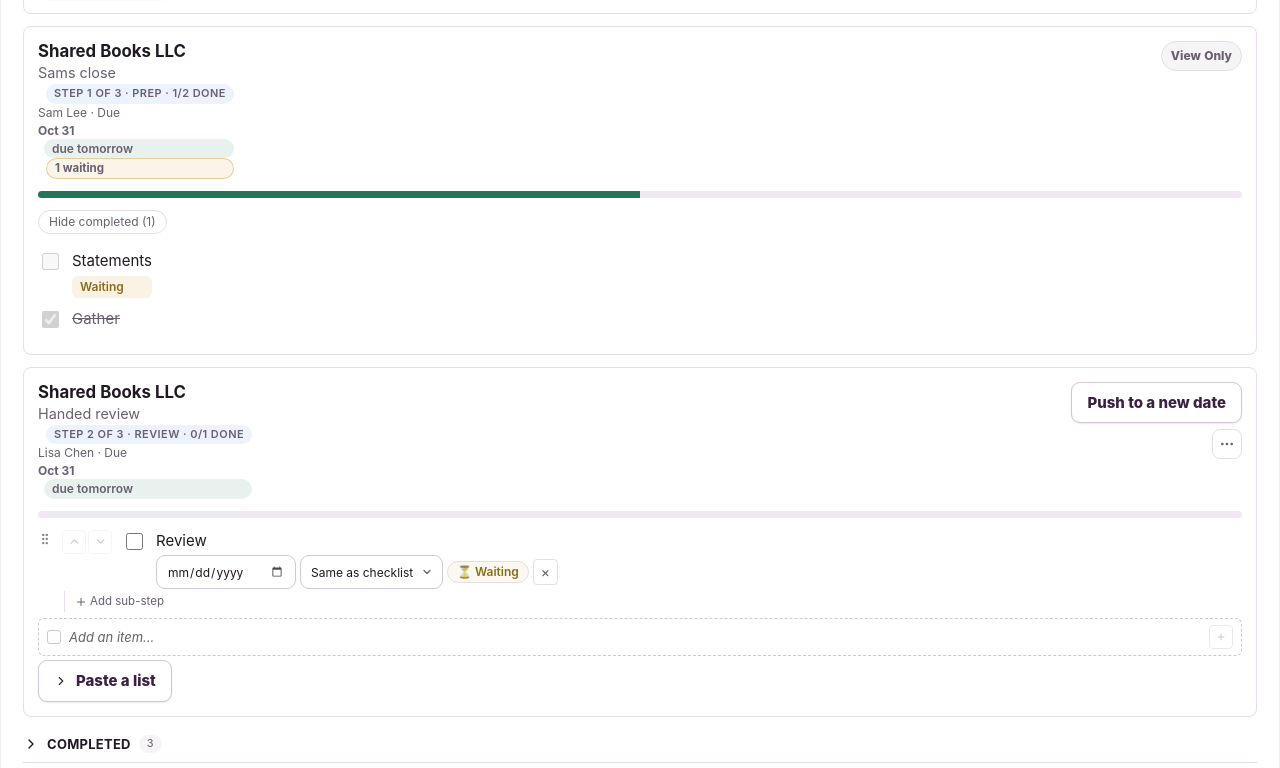
Open next step now › is offered on a finished step whose next step never opened, saying so
The image size is (1280, 768).
(page scrolled)
Click the button "Completed 3" at (89, 744), box [23, 727, 1257, 763]
(page scrolled)
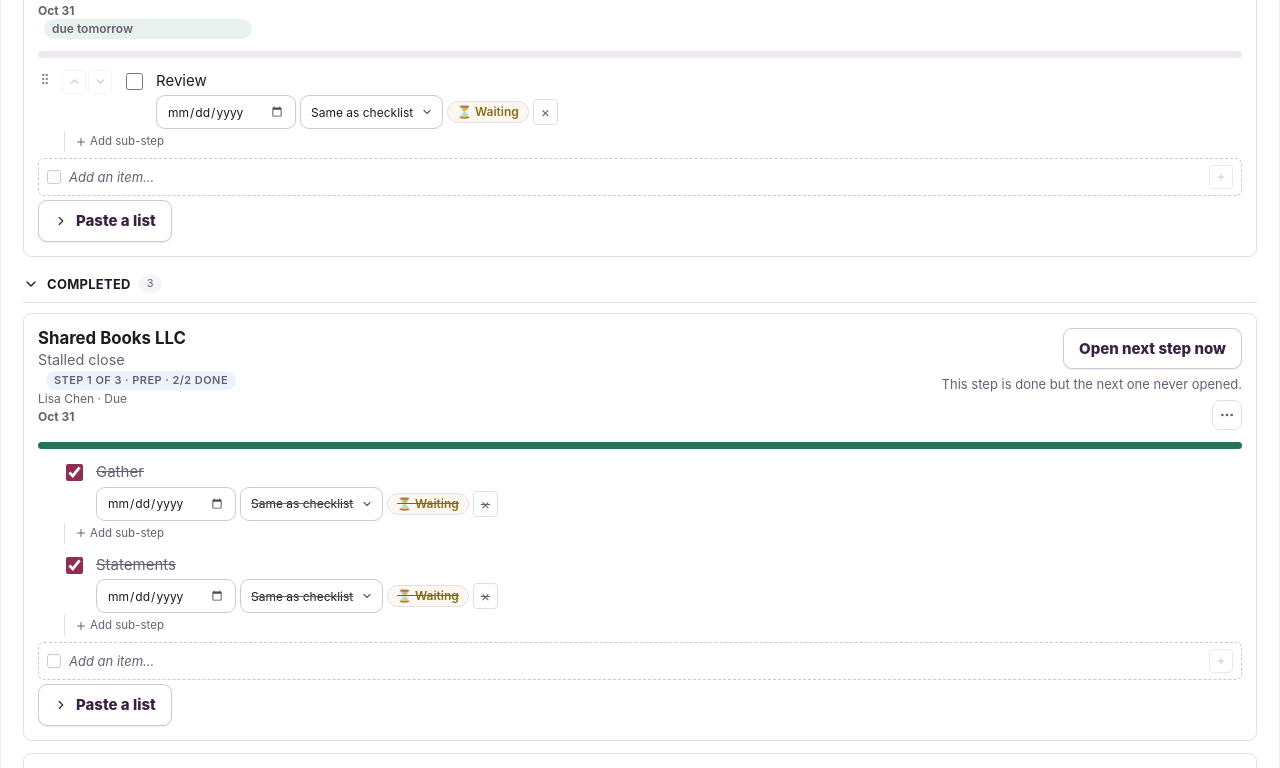
Expected: the button "Open next step now" is shown, [1063, 328, 1242, 370]
Expected: the text "This step is done but the next one never opened." is shown, [942, 375, 1242, 394]
